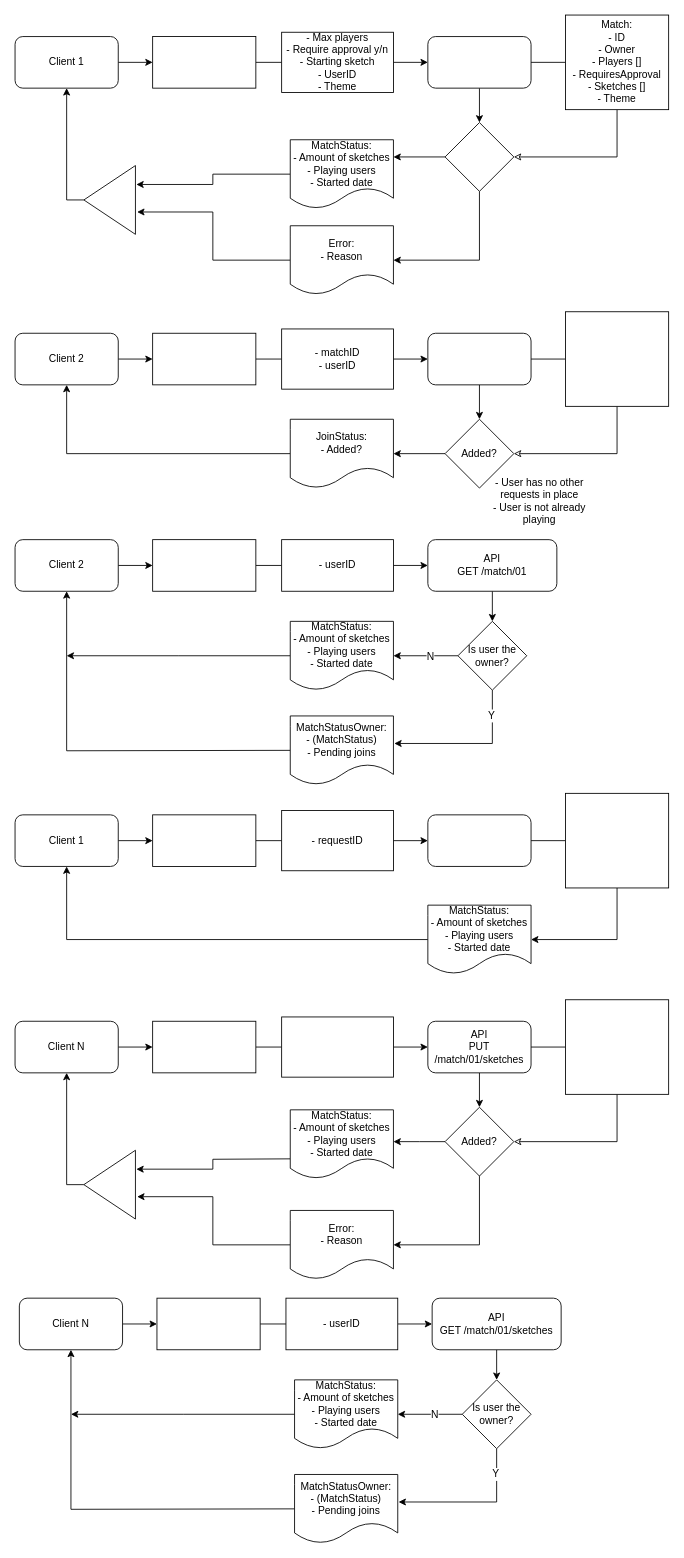
This 684x1558 diagram has some shape labels left out. The shapes that lost their labels are listed below. From the top down, each one's centre as x and y in pixels, then its label:
At point 204,62: "New match".
At point 479,62: "API POST /match".
At point 479,156: "Created OK?".
At point 204,358: "Join match".
At point 479,358: "API PUT /match/01/players".
At point 617,358: "Add join request to matchID".
At point 204,565: "Match status".
At point 204,840: "Approve requests".
At point 479,840: "API PATCH /match/01/players".
At point 617,840: "Add request's user to playing users".
At point 204,1046: "Send sketch".
At point 337,1046: "- userID - sketch".
At point 617,1046: "Add sketch to stack if playing user".
At point 208,1323: "Match sketches".
